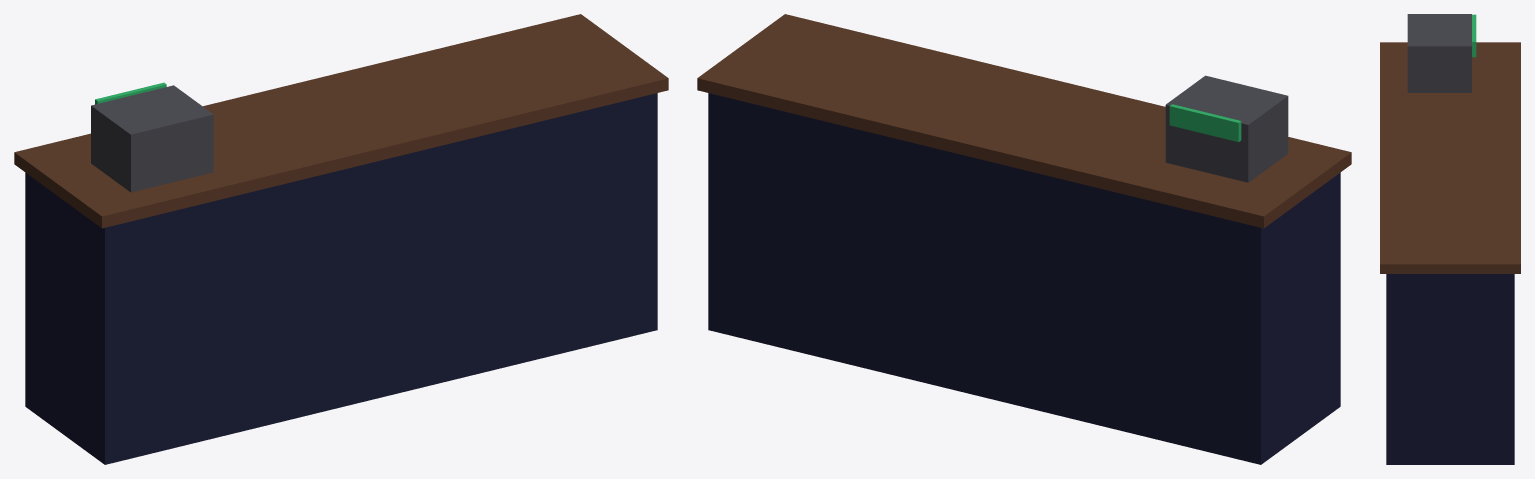
File: structure.glb
3 views of the same model, side by side, from view 1: azimuth 30°, elevation 25°; view 2: azimuth 150°, elevation 25°; view 3: azimuth 270°, elevation 25° (orthographic). The views are drawn at different scales.
Parts seen in each view (by area): view 1: Box2, Box3, Box4; view 2: Box2, Box3, Box4, Box5; view 3: Box3, Box2, Box4, Box5.
Boxes of the visible parts, <box> form: Box2: <box>25,93,657,464</box>; Box3: <box>14,14,668,228</box>; Box4: <box>91,85,213,192</box>; Box2: <box>708,93,1340,464</box>; Box3: <box>697,14,1351,228</box>; Box4: <box>1165,75,1288,182</box>; Box5: <box>1169,104,1241,142</box>; Box3: <box>1380,42,1520,273</box>; Box2: <box>1386,274,1514,464</box>; Box4: <box>1407,14,1471,92</box>; Box5: <box>1472,14,1476,57</box>.
Size of what is drawn, in the model's own units: 2.46 by 1.3 by 0.66.
